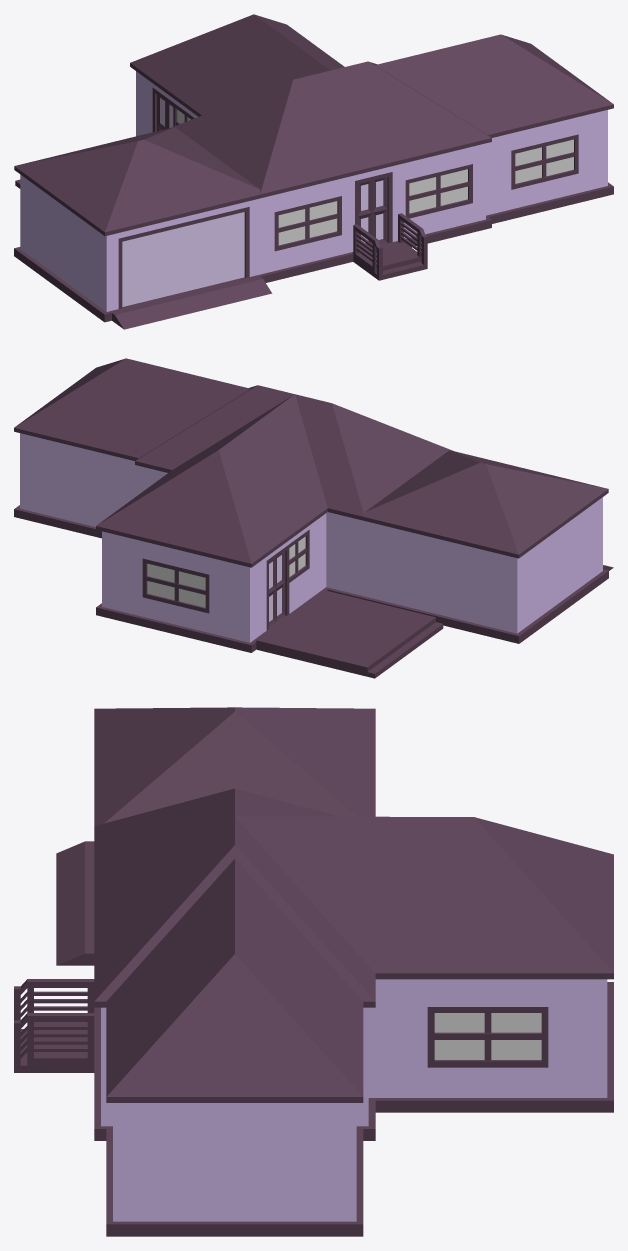
Rendered from House #16.fbx.
The picture shows the model from 3 angles, top to bottom: view 1: azimuth 30°, elevation 25°; view 2: azimuth 150°, elevation 25°; view 3: azimuth 270°, elevation 25°; orthographic projection. The views are drawn at different scales.
Visible parts, largest first — view 1: building_001; view 2: building_001; view 3: building_001.
Boxes of the visible parts, left/top/right/bottom form: building_001: left=14, top=14, right=613, bottom=329; building_001: left=14, top=358, right=613, bottom=678; building_001: left=14, top=707, right=613, bottom=1236.
Size of the model in its own units: 1373 by 390 by 896.
